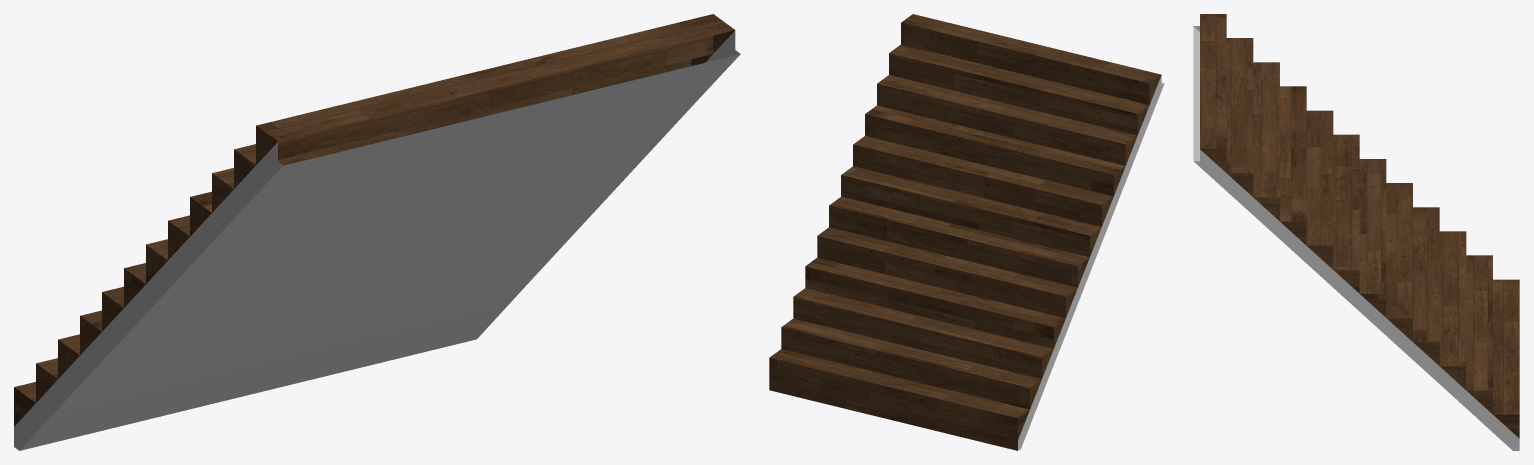
File: stairsAlternate.fbx
3 views of the same model, side by side, from view 1: azimuth 30°, elevation 25°; view 2: azimuth 150°, elevation 25°; view 3: azimuth 270°, elevation 25° (orthographic). The views are drawn at different scales.
Parts seen in each view (by area): view 1: stairs; view 2: stairs; view 3: stairs.
Boxes of the visible parts, x1=… form: stairs: x1=14, y1=14, x2=740, y2=450; stairs: x1=769, y1=14, x2=1164, y2=450; stairs: x1=1193, y1=14, x2=1519, y2=450.
Bounding box in the file's own units: 12 × 12.5 × 12.25.
1 material, 1 textured.
